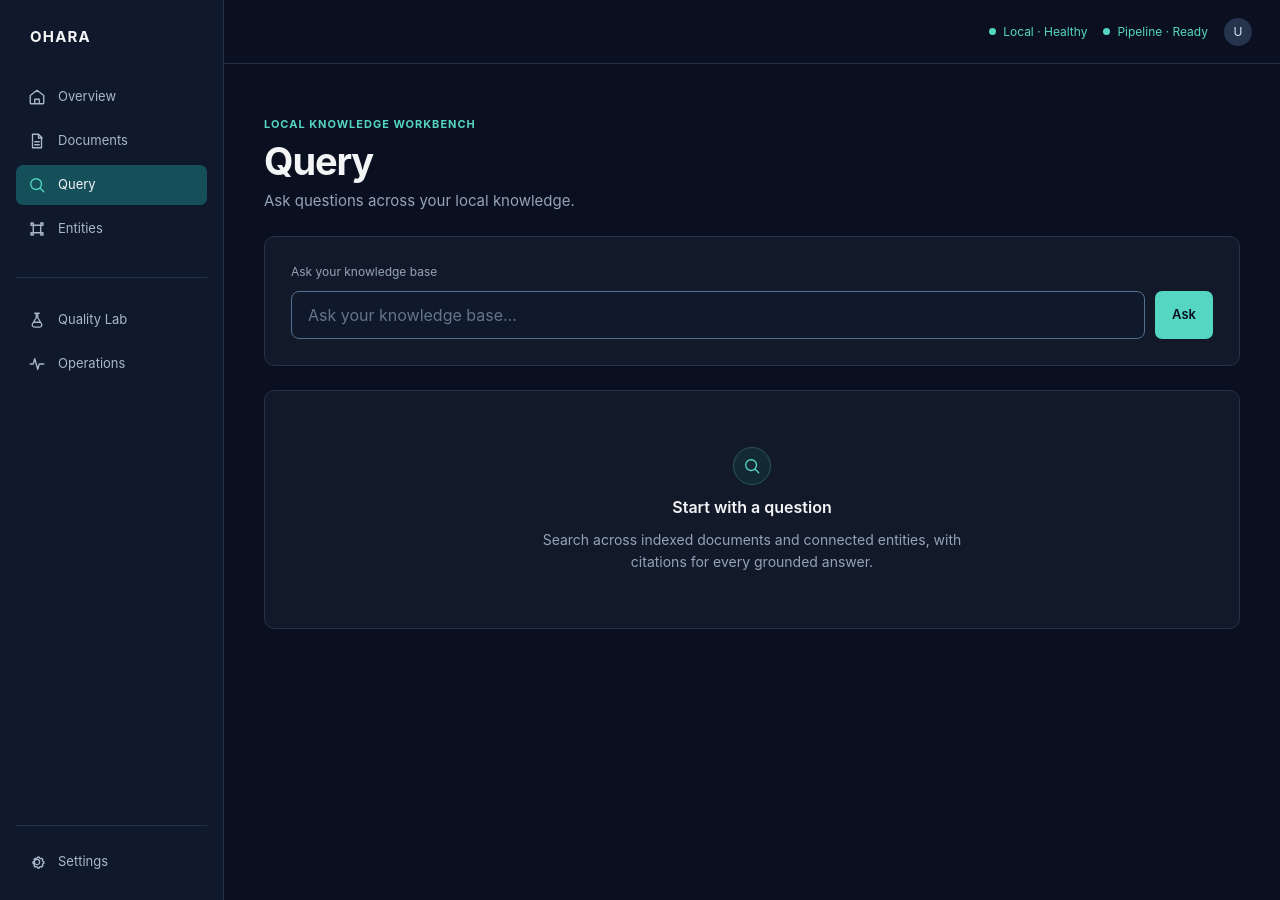
Test: App shell › loads an entity review preview
Click the link "Entities": point(65, 228) [28, 220, 103, 238]
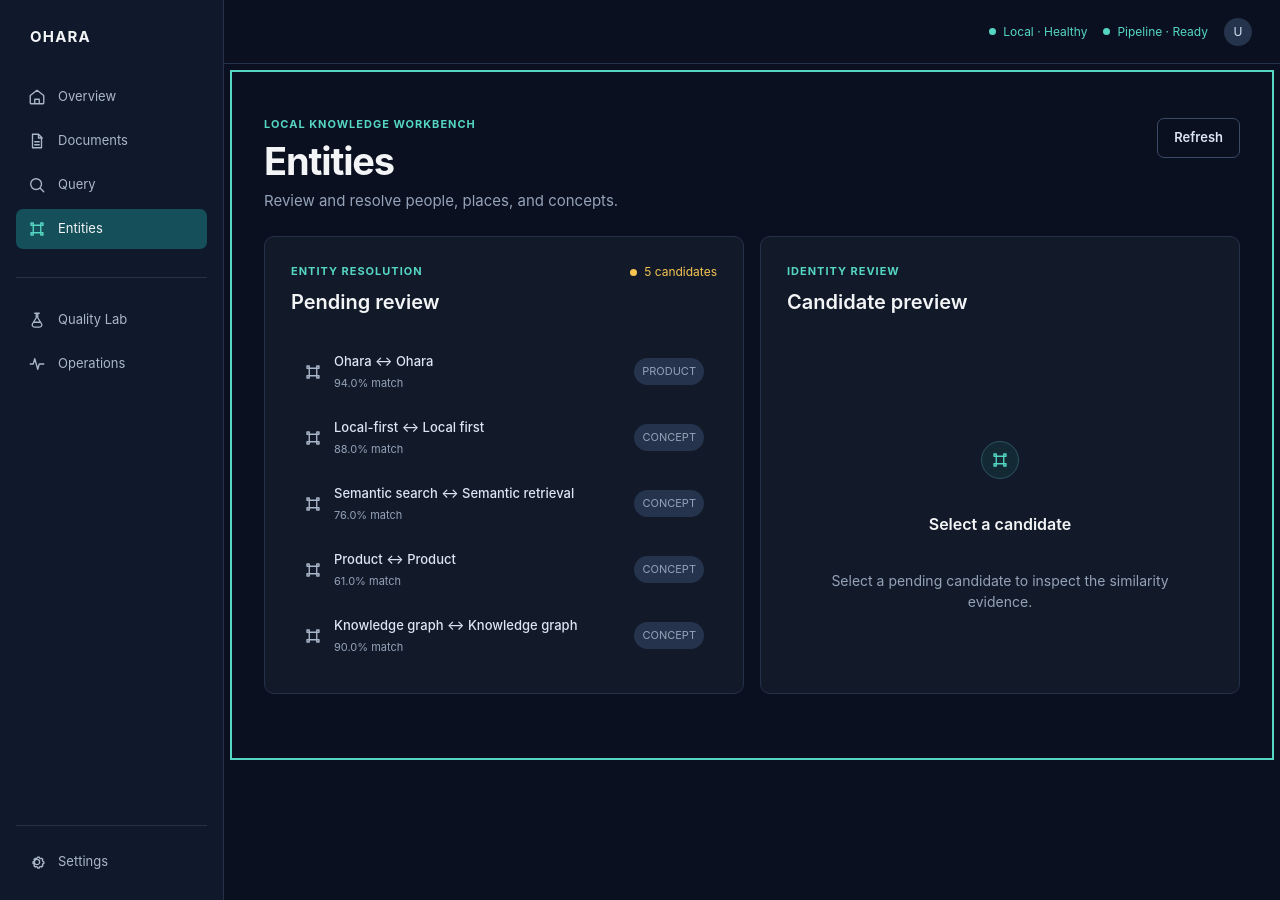
Click the button "Ohara ↔ Ohara 94.0% match PRODUCT": point(353, 360) [291, 340, 717, 402]
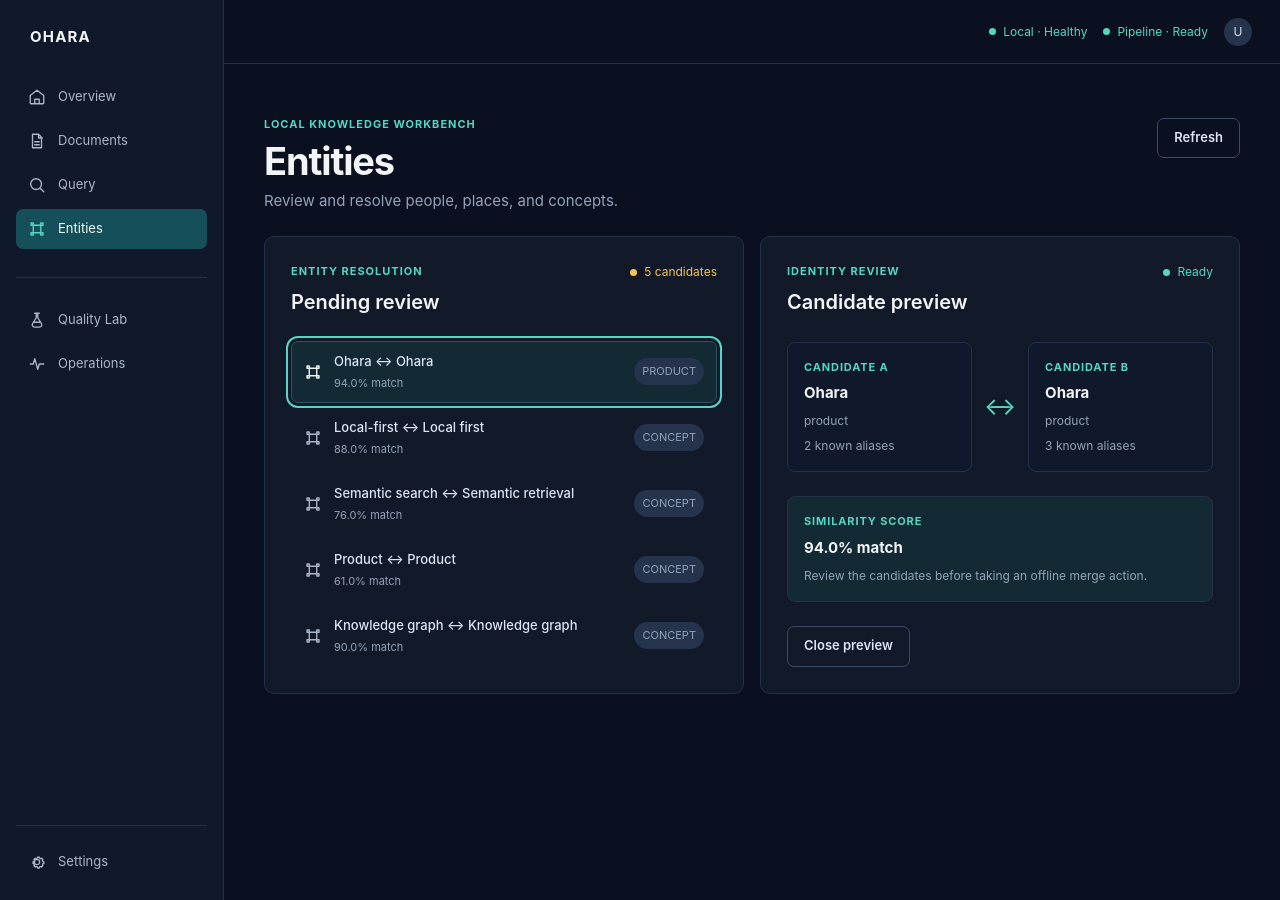
Result: the heading "Candidate preview" is shown at [787, 286, 968, 316]
Result: the text "94.0% match" is shown 2 times at [334, 376, 403, 390]; [804, 538, 903, 557]
